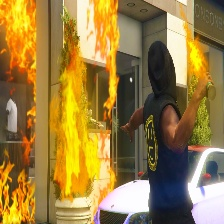fire: (1, 1, 119, 224), (178, 11, 209, 76)
